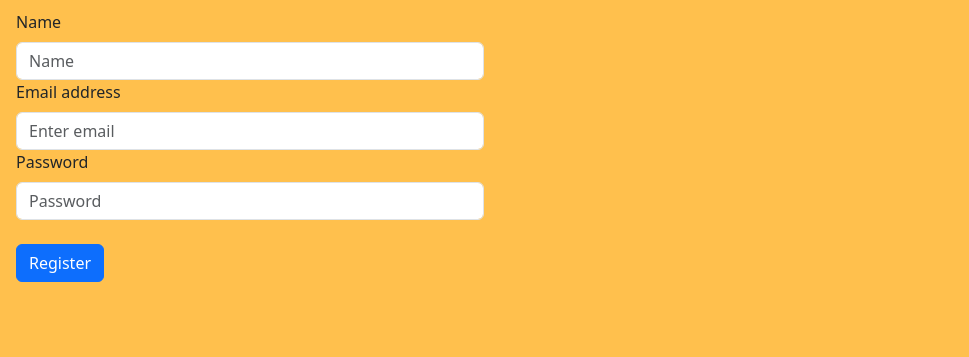
Scenario: displays an error message when registration fails
The width and height of the screenshot is (969, 357).
Type "Test User" into the field labelled "Name" at (250, 61), box [16, 42, 484, 80]
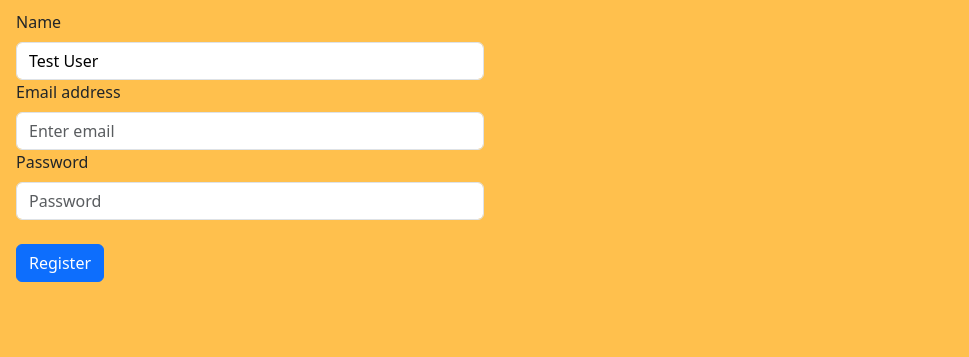
Type "test@example.com" into the field labelled "Email address" at (250, 131), box [16, 112, 484, 150]
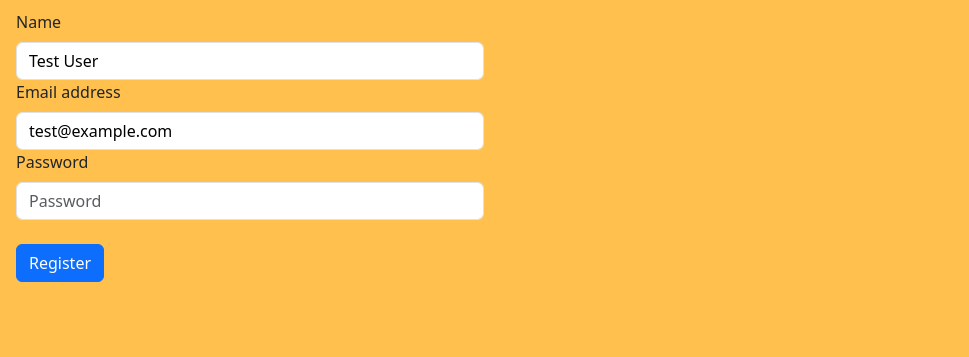
Type "password" into the password field labelled "Password" at (250, 201), box [16, 182, 484, 220]
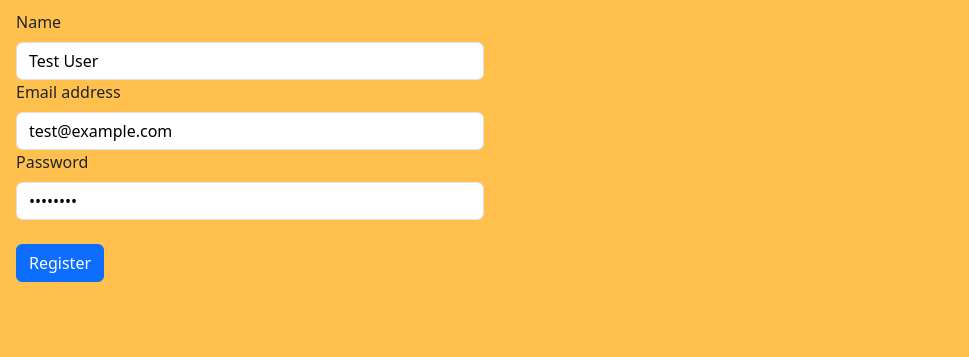
// Submit the form
Click the button "Register" at (60, 263), box [16, 244, 104, 282]
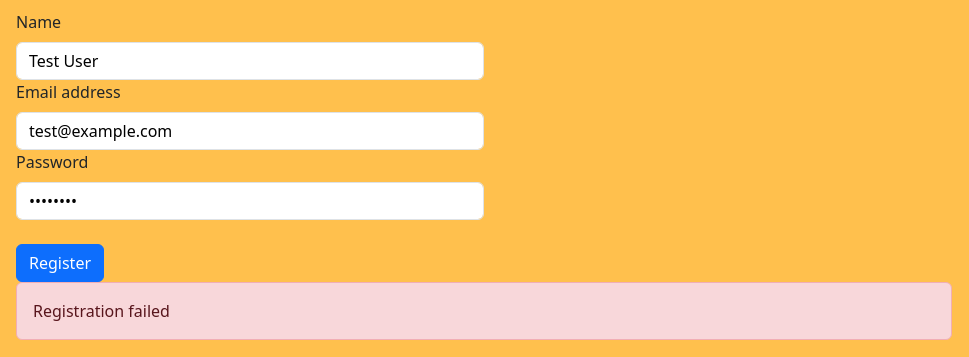
Expected: the text "Registration failed" is shown, [16, 282, 952, 340]
